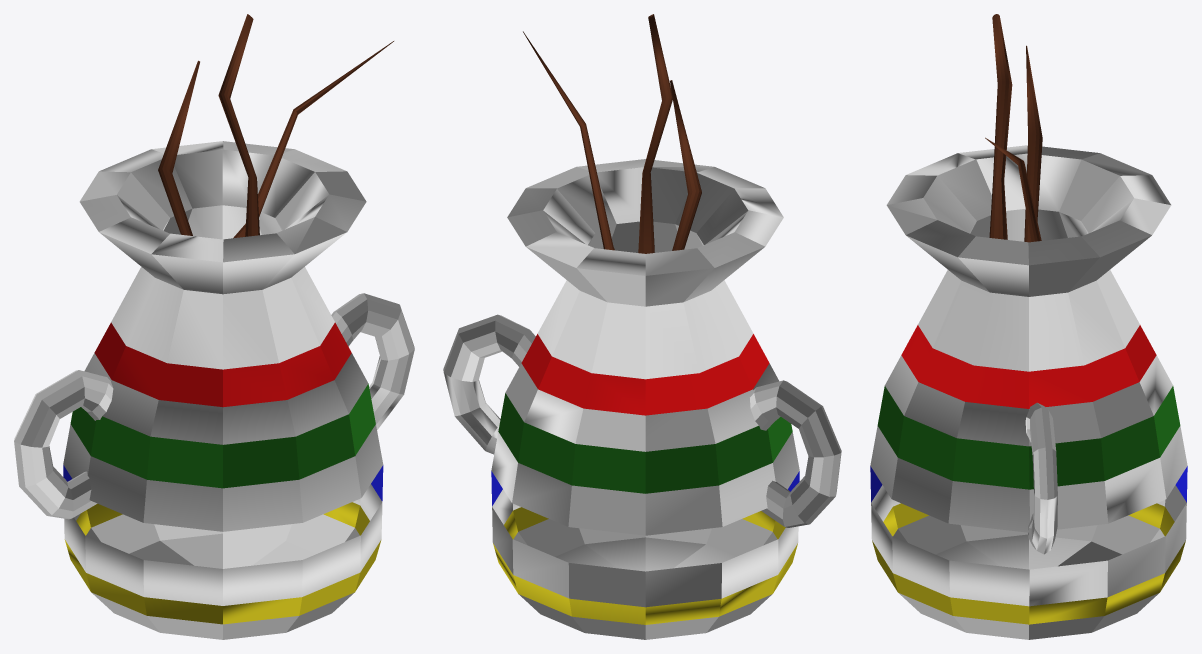
File: VASO DDM CINEMA.fbx
3 renders of one model, left to right at view 1: azimuth 30°, elevation 25°; view 2: azimuth 150°, elevation 25°; view 3: azimuth 270°, elevation 25°, orthographic. The views are drawn at different scales.
Parts seen in each view (by area): view 1: Cylinder_2_1; view 2: Cylinder_2_1; view 3: Cylinder_2_1.
Boxes of the visible parts, x1,y1,x2,y2 form: Cylinder_2_1: (14, 14, 414, 639); Cylinder_2_1: (443, 14, 841, 639); Cylinder_2_1: (870, 14, 1187, 639).
Size of the model in its own units: 2.4 by 3.29 by 1.64.
